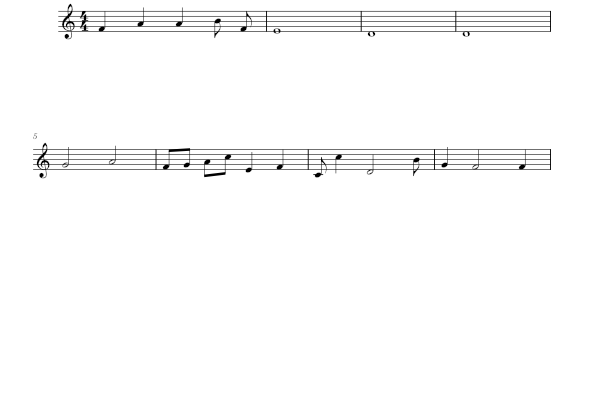Treble Clef: (58, 0, 78, 44), (34, 141, 55, 181)
